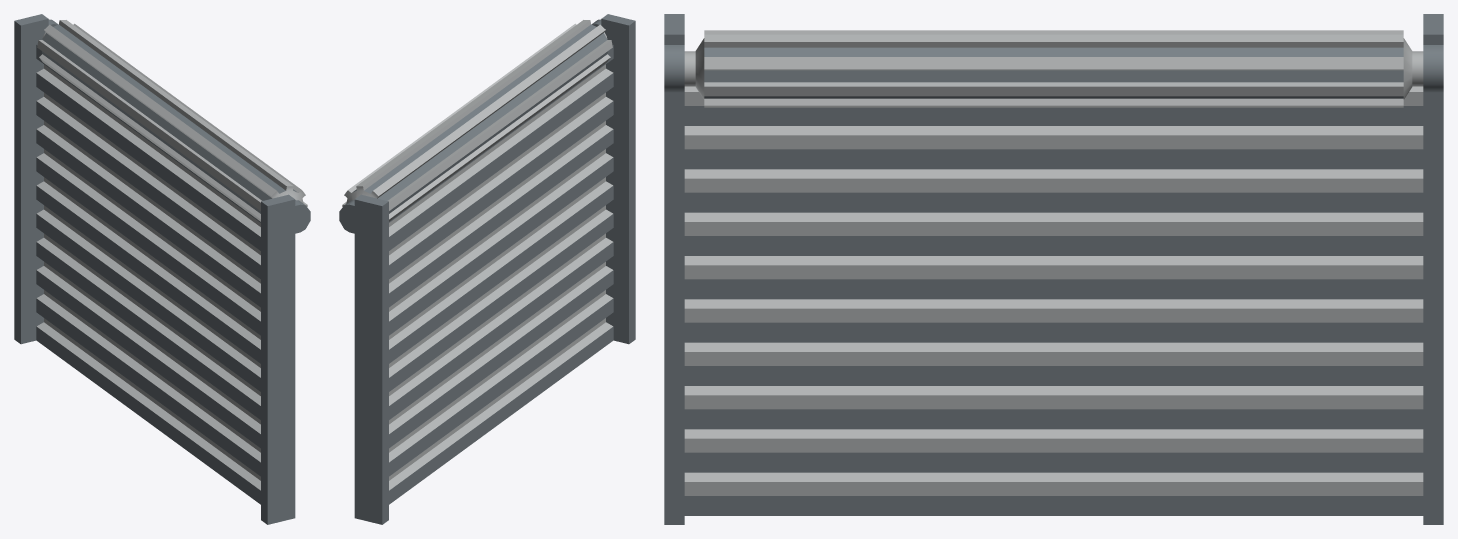
The model's file is RollerDoor.fbx.
3 views of the same model, side by side, from view 1: azimuth 30°, elevation 25°; view 2: azimuth 150°, elevation 25°; view 3: azimuth 270°, elevation 25° (orthographic). The views are drawn at different scales.
Visible parts, largest first — view 1: RollerDoor; view 2: RollerDoor; view 3: RollerDoor.
Boxes of the visible parts, x1,y1,x2,y2 form: RollerDoor: [14, 14, 310, 524]; RollerDoor: [339, 14, 635, 524]; RollerDoor: [664, 14, 1443, 524].
Size of the model in its own units: 78.64 by 453 by 648.
Materials: 1 (1 with a texture image).
